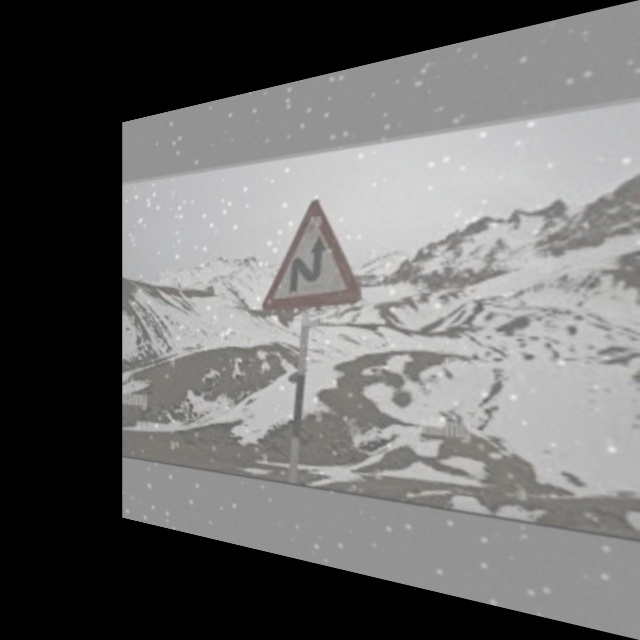Right_Reverse_Bend: (269, 195, 361, 314)
